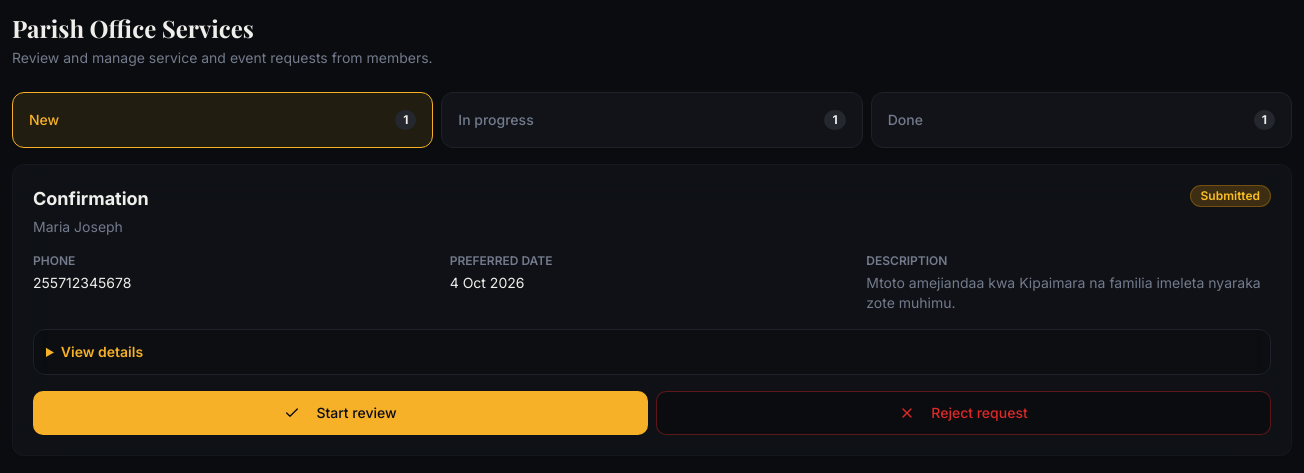
Test case: Wave 25 office services UX › renders office request labels and dates in English when English is selected
Step 1. Press the mouse on the tab "In progress 1" → (496, 120), box [441, 92, 863, 148]
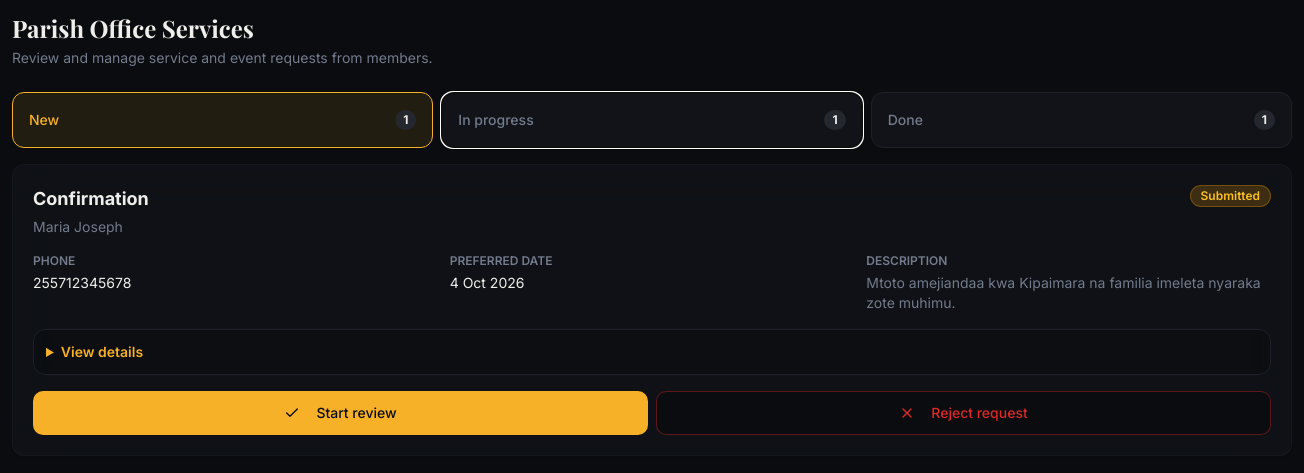
Step 2. Click the tab "In progress 1" → (496, 120), box [441, 92, 863, 148]
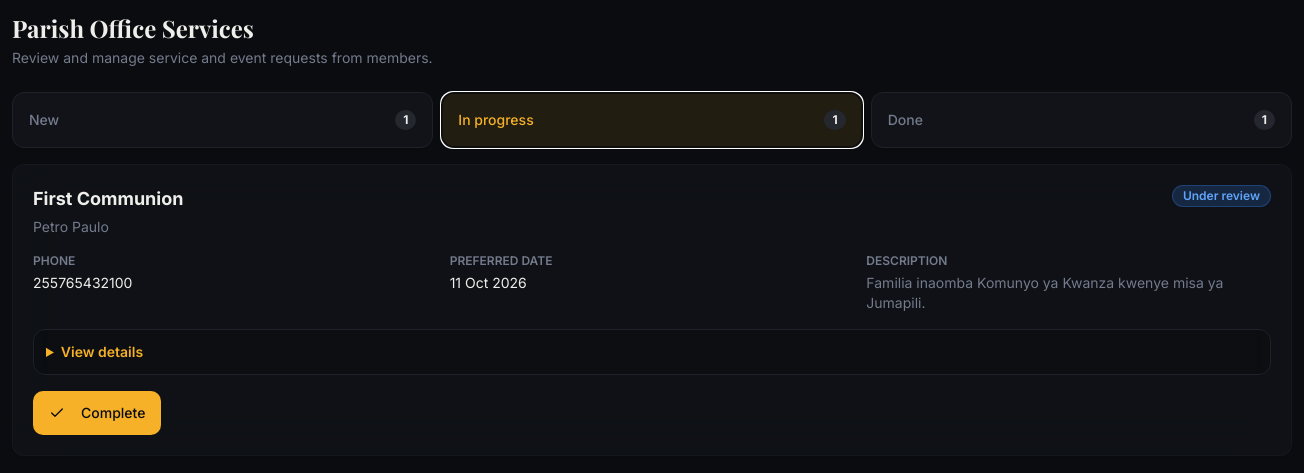
Expected: the text "First Communion" is shown, [33, 185, 184, 213]
Expected: the text "Complete" is shown, [33, 391, 161, 435]
